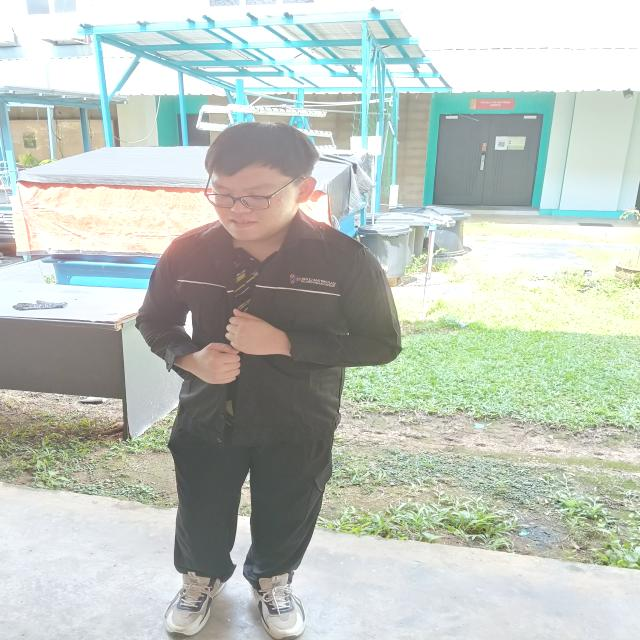person_with_labcoat: (136, 122, 401, 640)
